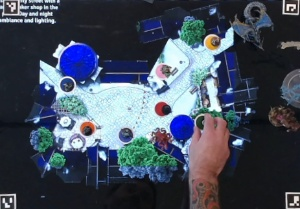blue: (55, 74, 80, 97)
green: (191, 112, 214, 133)
orange: (78, 120, 96, 136)
pink: (154, 62, 172, 80)
red: (153, 100, 171, 118)
violet: (116, 124, 133, 145)
yellow: (200, 32, 221, 54)
